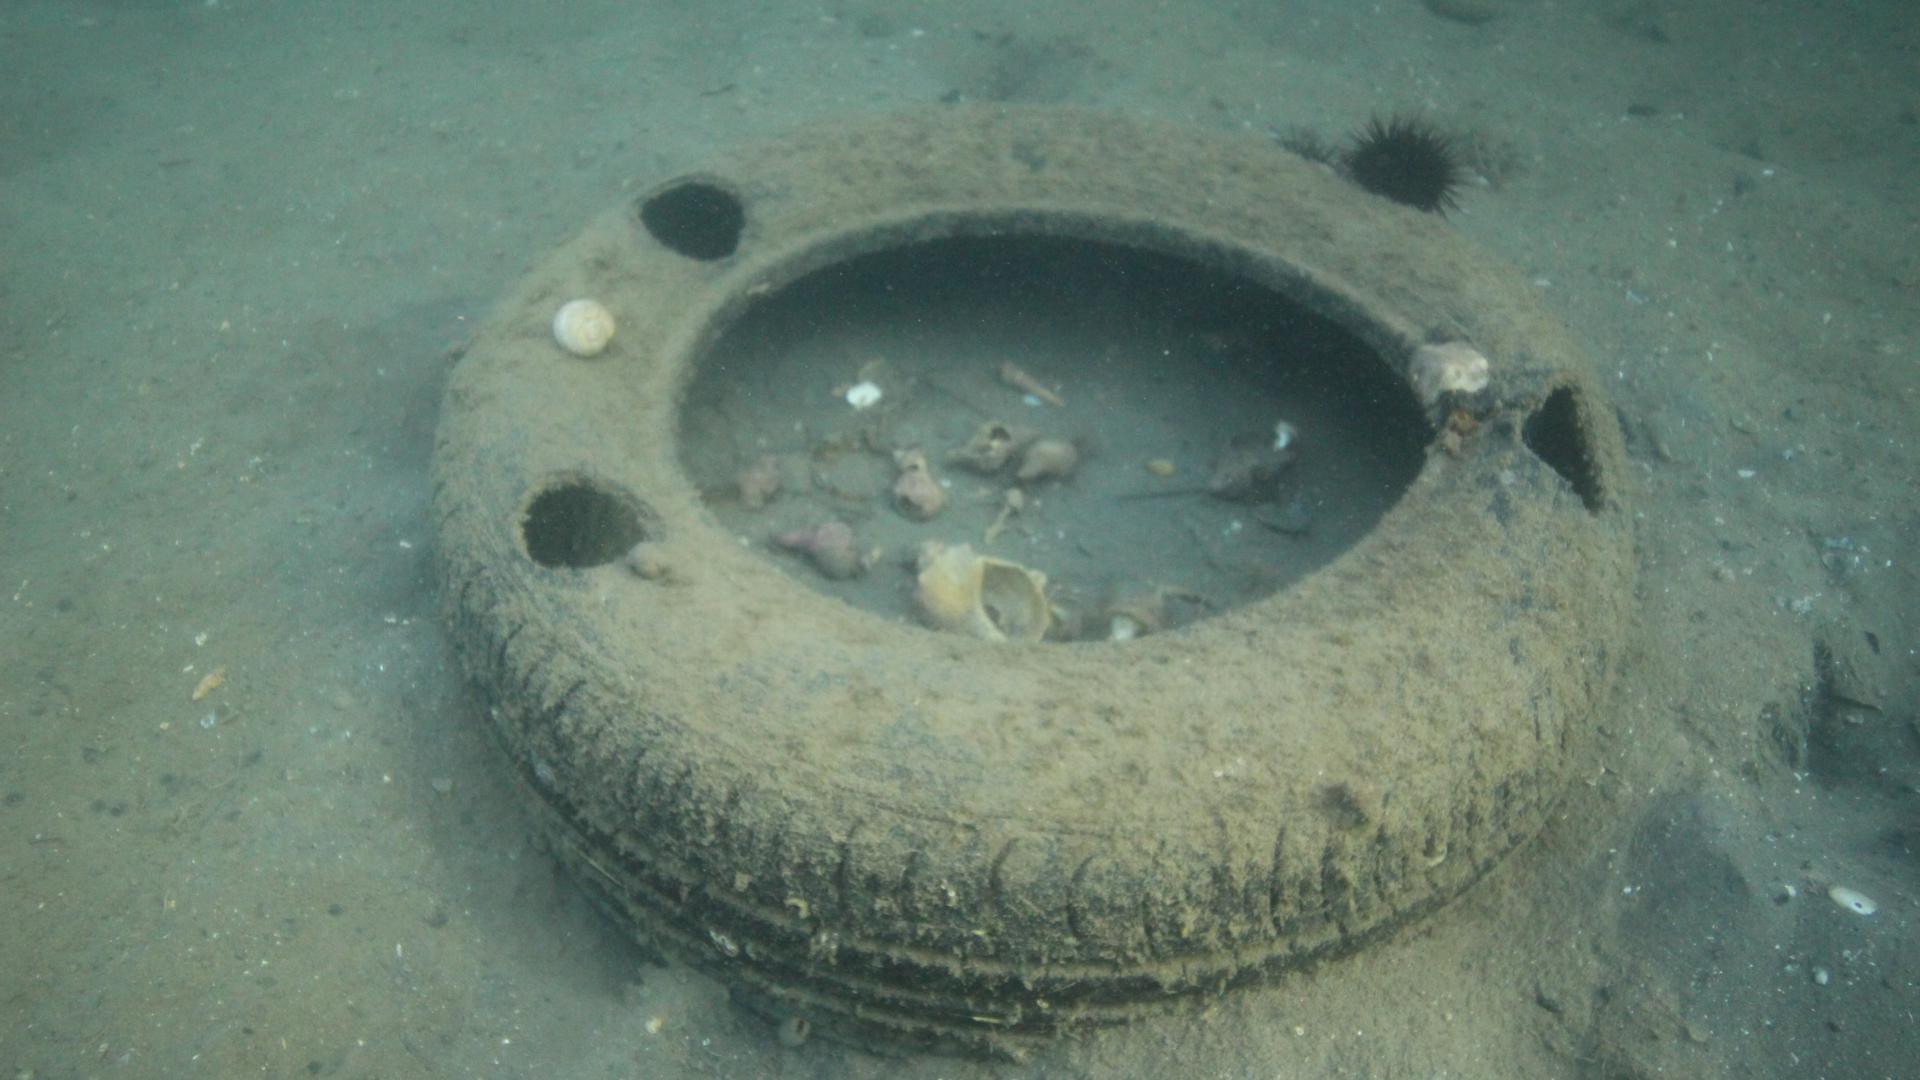tire: (425, 98, 1629, 1062)
